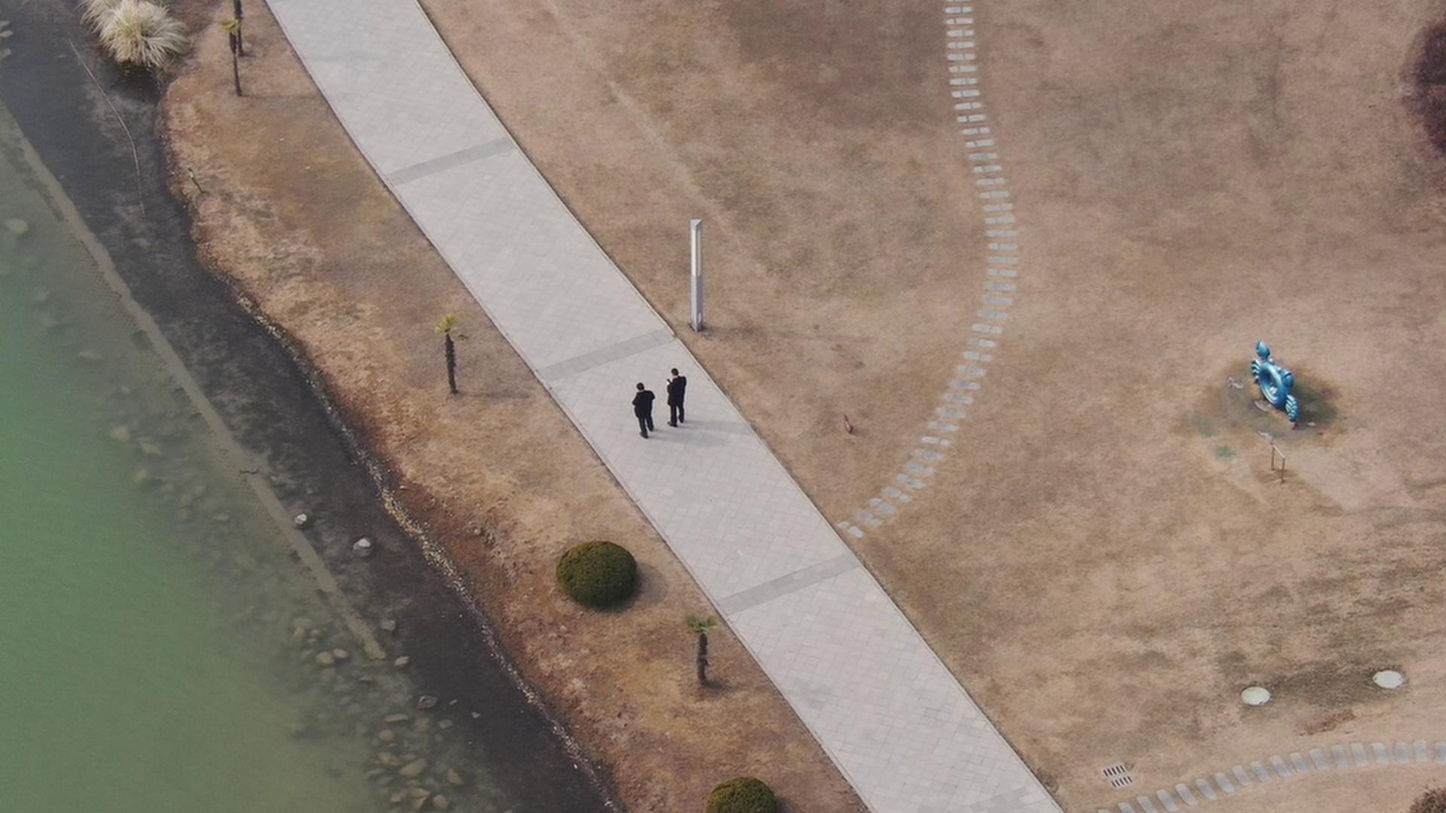human: (620, 365, 658, 436), (658, 351, 688, 430)
